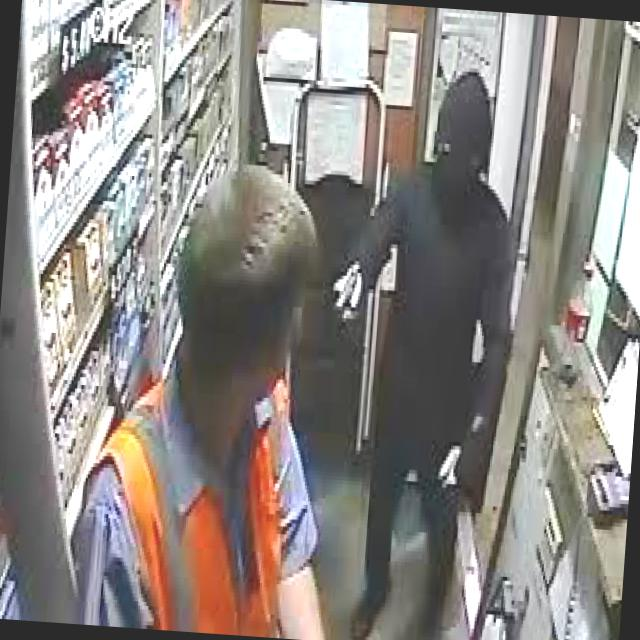handgun: (328, 259, 367, 331)
